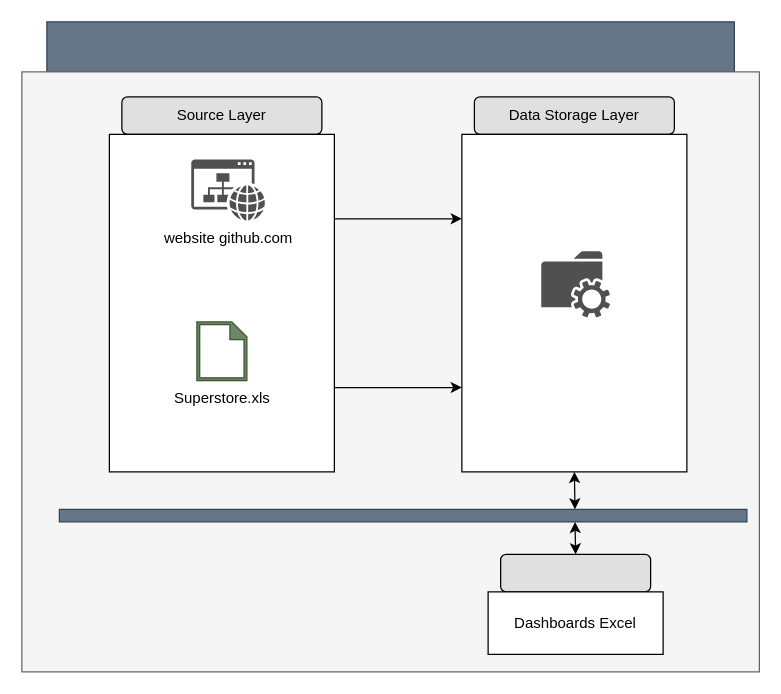
Some shapes in this 781 by 694 pixel diagram are drawn without their labels. The centre of each missing label's shape, as x and y in pixels:
"Architecture" belongs at point 390,46.
"Business Layer" belongs at point 575,572.
"File System" belongs at point 575,284.
